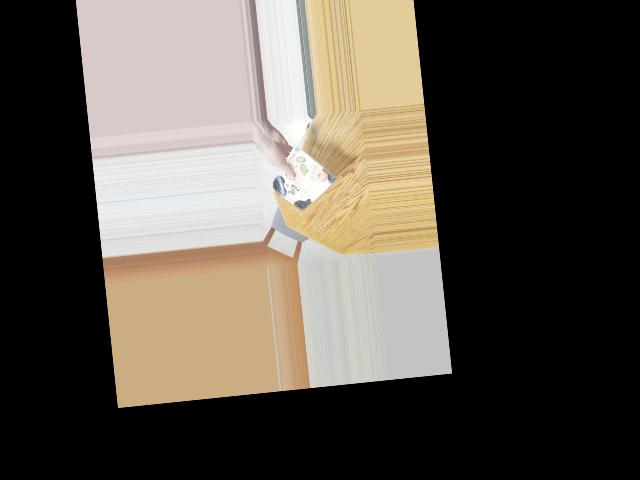cheese: (269, 154, 329, 206)
